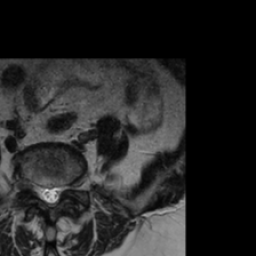CCS_normal: (47, 180, 54, 212)
LFS_severe_stenosis: (62, 172, 71, 198)
LLS_normal: (54, 179, 62, 207)
RFS_normal: (31, 174, 40, 203)
RLS_normal: (40, 179, 47, 208)
